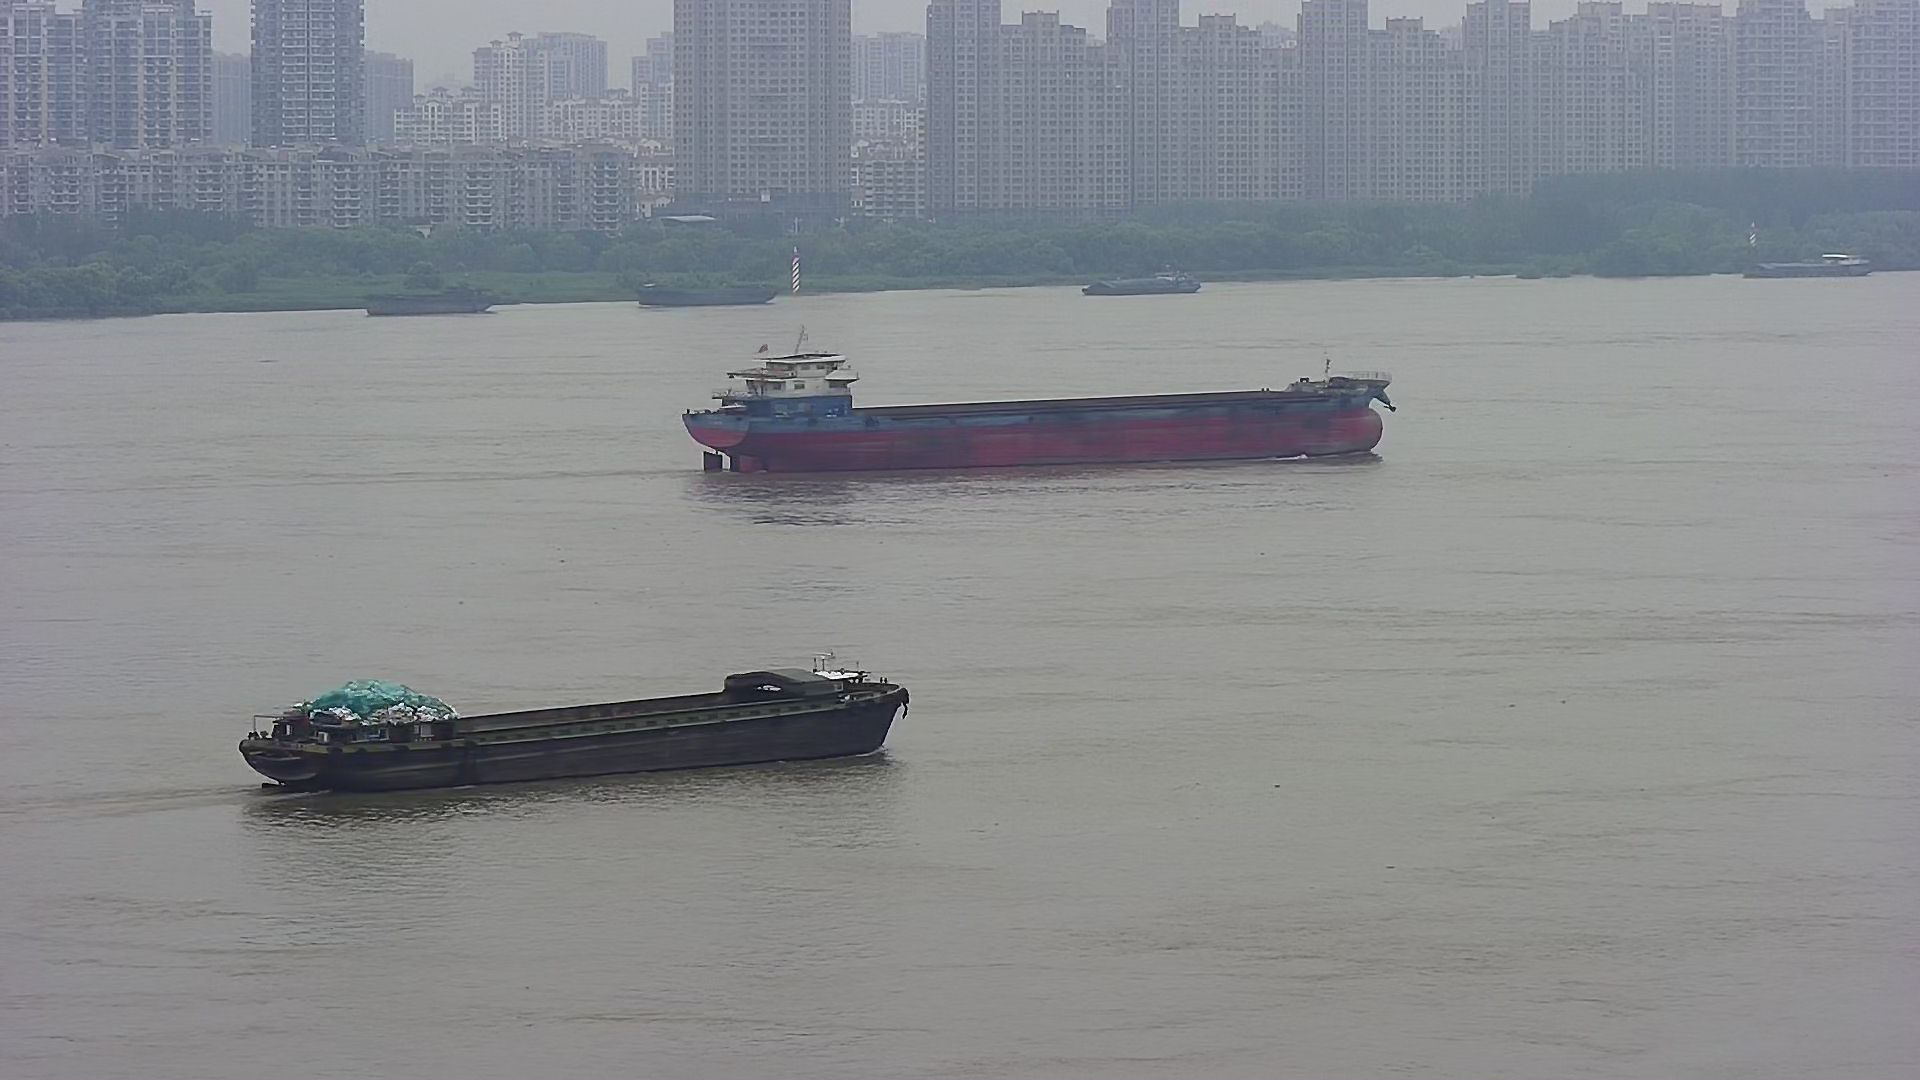ship: (200, 636, 927, 798), (680, 334, 1435, 480), (345, 274, 509, 324), (626, 262, 789, 313), (1076, 251, 1215, 301), (1743, 237, 1875, 284)
